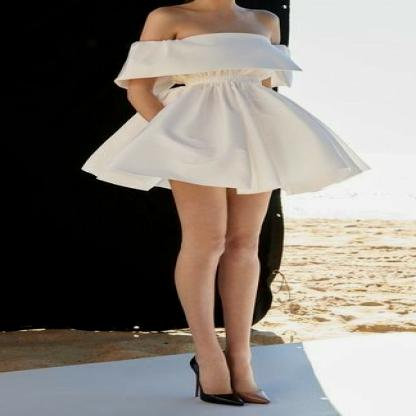jacket: (91, 32, 376, 203)
